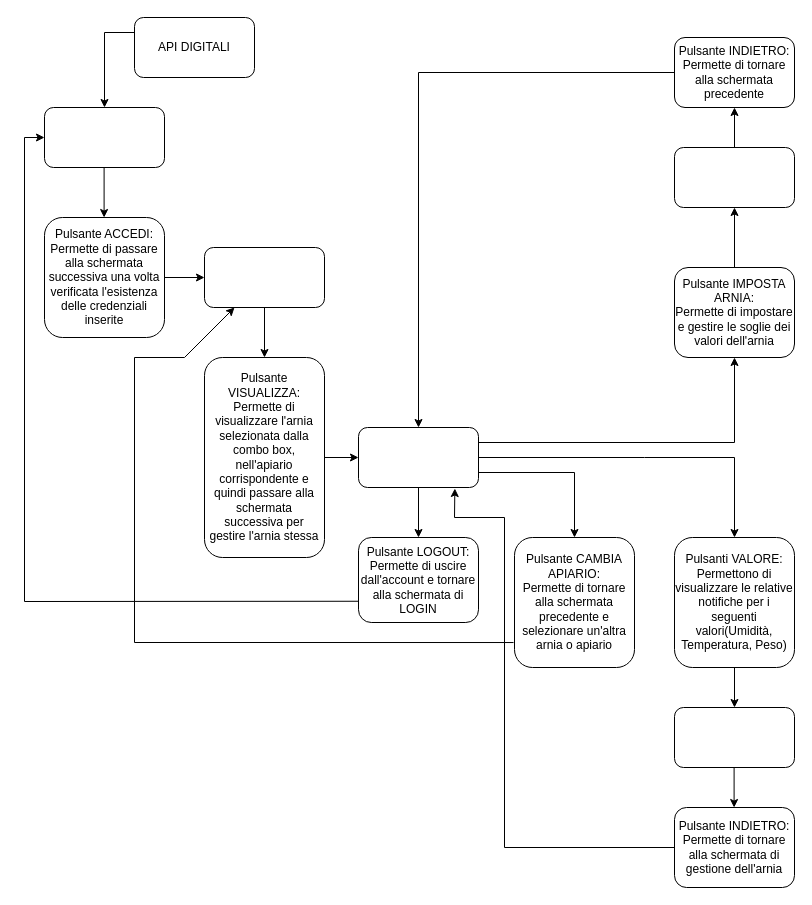
Image size: 812x905. Some labels were removed from this diagram. Each missing label, with the box of its shape:
Schermata Gestione Arnia: (358, 426, 478, 488)
Schermata Gestione Soglie: (674, 146, 794, 208)
Schermata Login: (44, 106, 164, 168)
Schermata Notifiche Valore: (674, 706, 794, 768)
Schermata selezione Apiario e Arnia: (204, 246, 324, 308)
